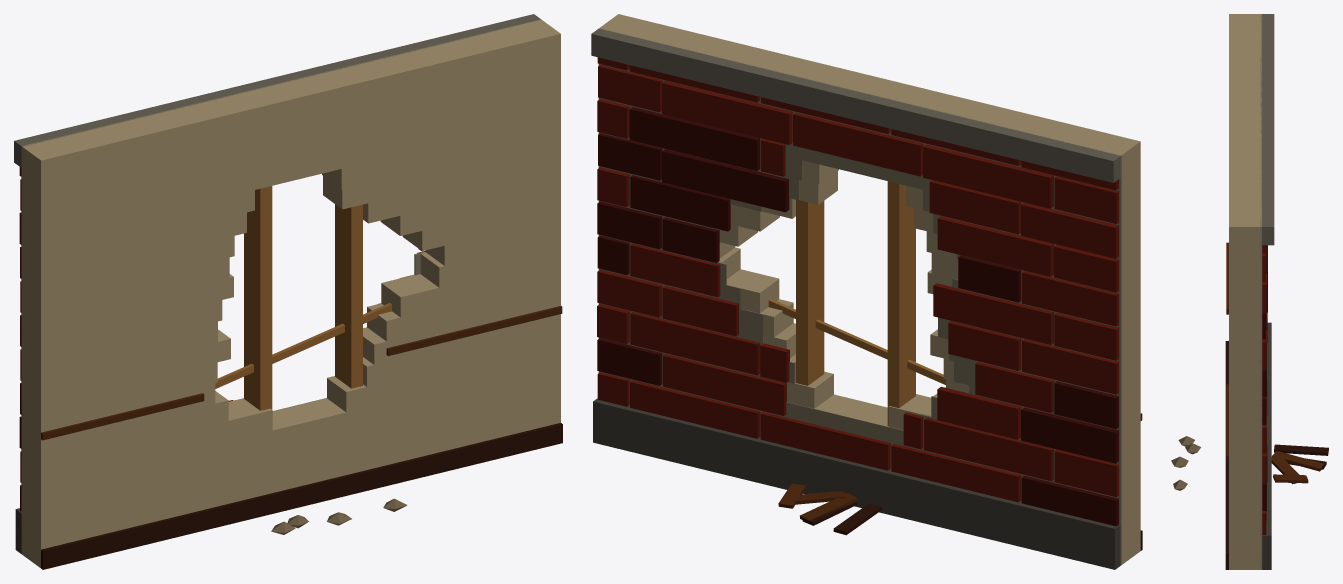
File: SM_Bld_Wall_Brick_Damaged.glb
3 views of the same model, side by side, from view 1: azimuth 30°, elevation 25°; view 2: azimuth 150°, elevation 25°; view 3: azimuth 270°, elevation 25° (orthographic). The views are drawn at different scales.
Visible parts, largest first — view 1: SM_Bld_Wall_Brick_Damaged; view 2: SM_Bld_Wall_Brick_Damaged; view 3: SM_Bld_Wall_Brick_Damaged.
Part boxes in pixels (x1=…): SM_Bld_Wall_Brick_Damaged: x1=14, y1=14, x2=562, y2=569; SM_Bld_Wall_Brick_Damaged: x1=591, y1=14, x2=1142, y2=569; SM_Bld_Wall_Brick_Damaged: x1=1171, y1=14, x2=1328, y2=569.
Bounding box in the file's own units: 4 × 3.01 × 1.25.
1 material, 1 textured.
